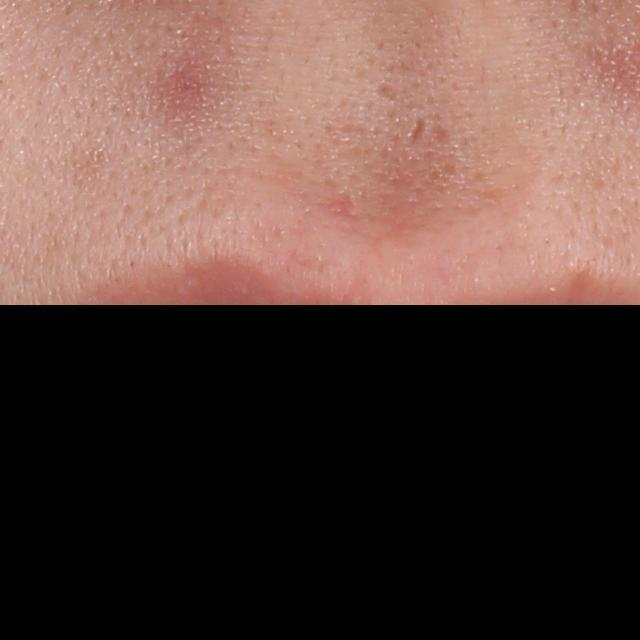atrophic_scar: (411, 118, 426, 141)
